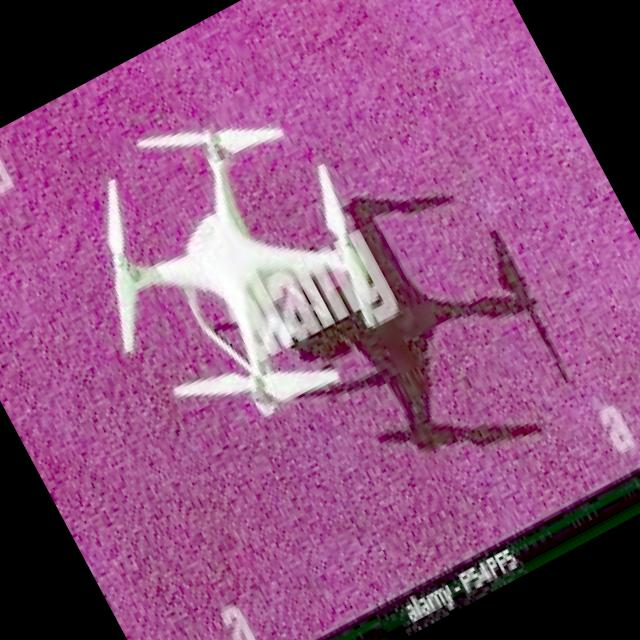drone: (24, 38, 473, 504)
